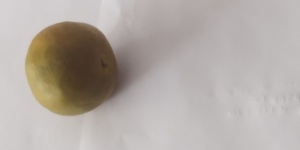BAD: (24, 20, 118, 116)
